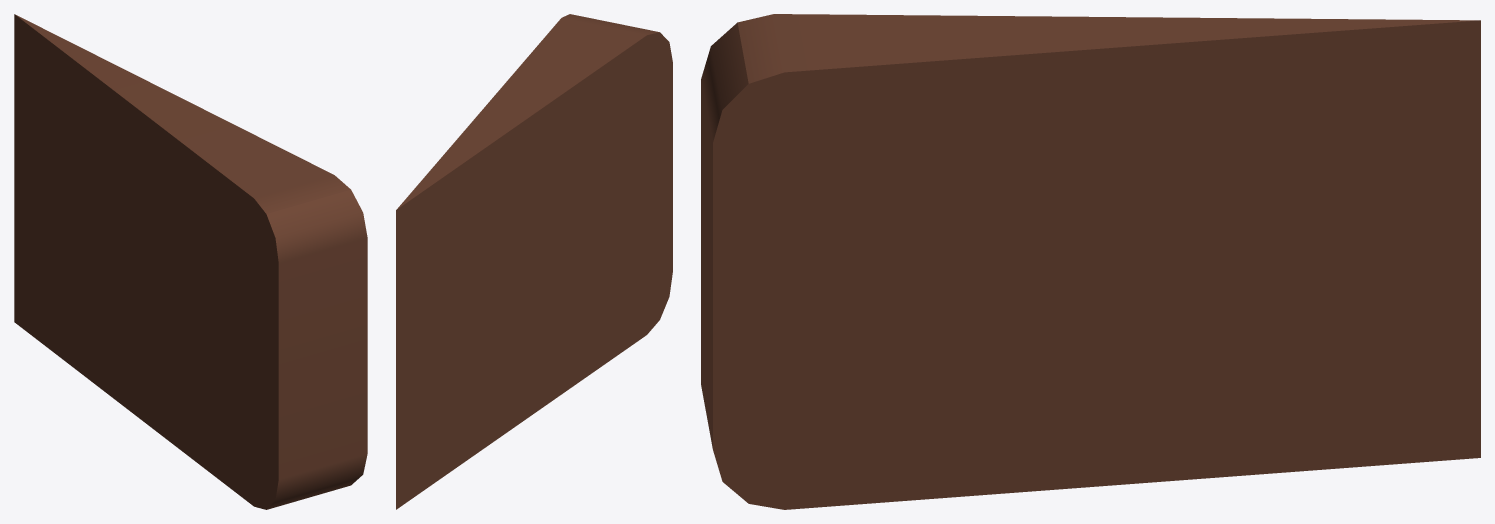
Rendered from Pandispanya_32P.fbx.
The picture shows the model from 3 angles, left to right: view 1: azimuth 30°, elevation 25°; view 2: azimuth 150°, elevation 25°; view 3: azimuth 270°, elevation 25°; orthographic projection. The views are drawn at different scales.
Parts seen in each view (by area): view 1: pCylinder129; view 2: pCylinder129; view 3: pCylinder129.
Boxes of the visible parts, <box> form: pCylinder129: <box>14,14,367,509</box>; pCylinder129: <box>396,14,672,509</box>; pCylinder129: <box>701,14,1480,509</box>.
Size of the model in its own units: 0.1955 by 0.6191 by 0.9998.
